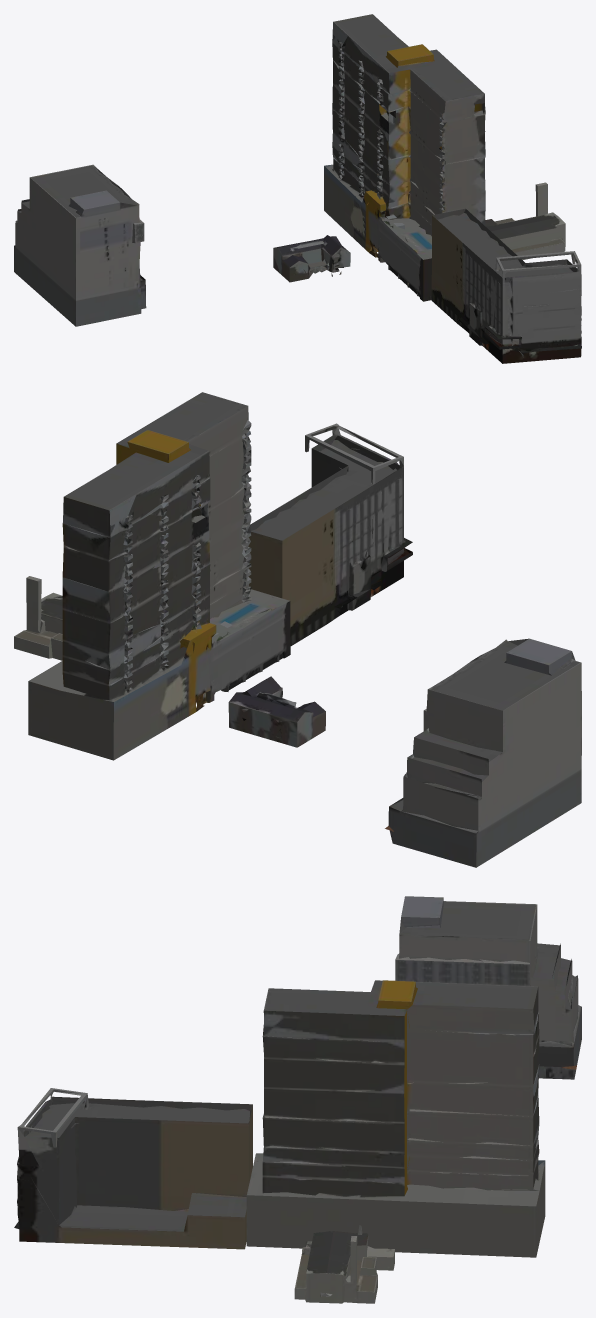
Rendered from t_-2_1.coat.glb.
The picture shows the model from 3 angles, top to bottom: view 1: azimuth 30°, elevation 25°; view 2: azimuth 150°, elevation 25°; view 3: azimuth 270°, elevation 25°; orthographic projection. The views are drawn at different scales.
Visible parts, largest first — view 1: far; view 2: far; view 3: far.
Part boxes in pixels (<box>): far: <box>14,14,581,363</box>; far: <box>14,392,581,867</box>; far: <box>14,896,581,1303</box>.
Size of the model in its own units: 231 by 95.94 by 205.
1 material, 1 textured.
